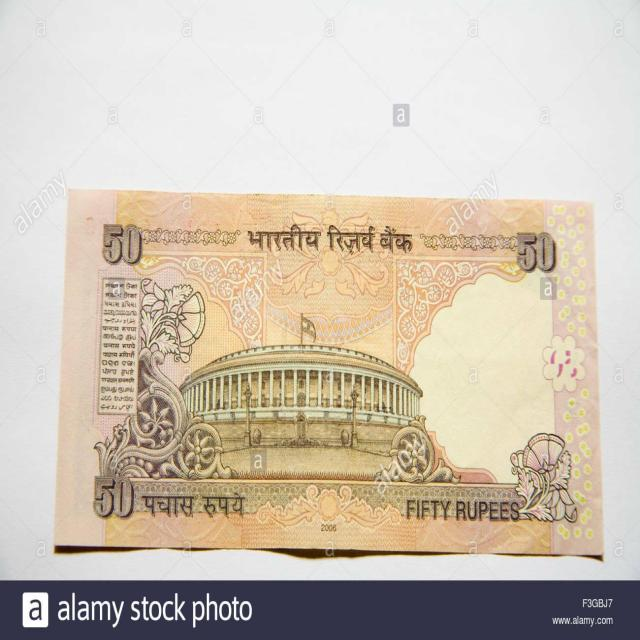50IndianRupees: (50, 200, 598, 542)
